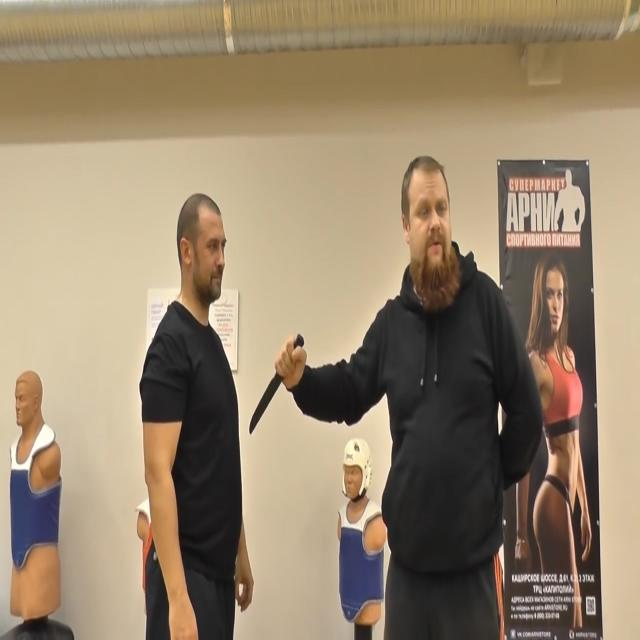knife: (250, 332, 306, 436)
